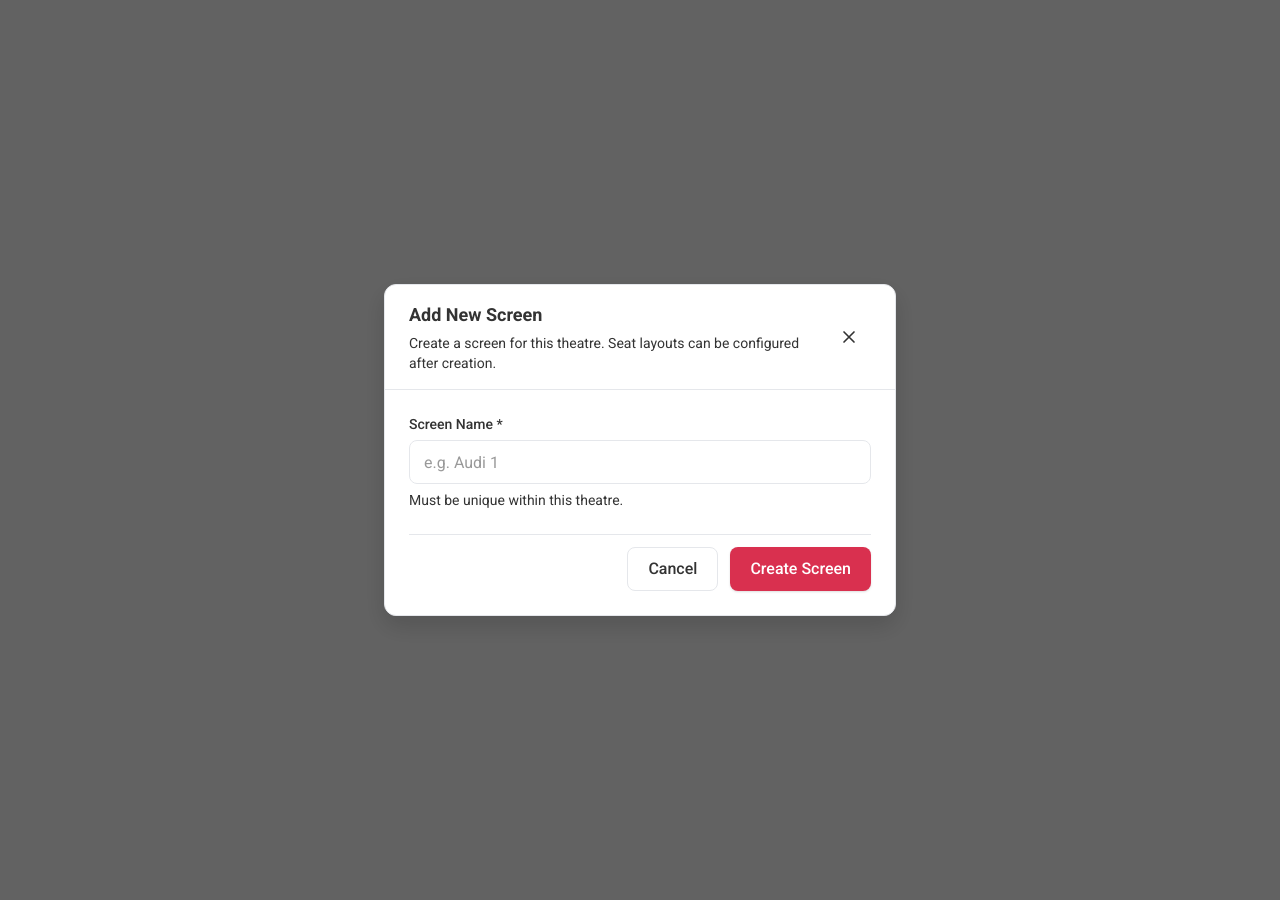
Test: CreateScreenModal Error Handling (Pilot Form) › displays general message in FormErrorBanner for 403 Forbidden without setting field errors
Type "Audi 2" into the field labelled "Screen Name *" at (640, 462), box x1=409 y1=440 x2=871 y2=484
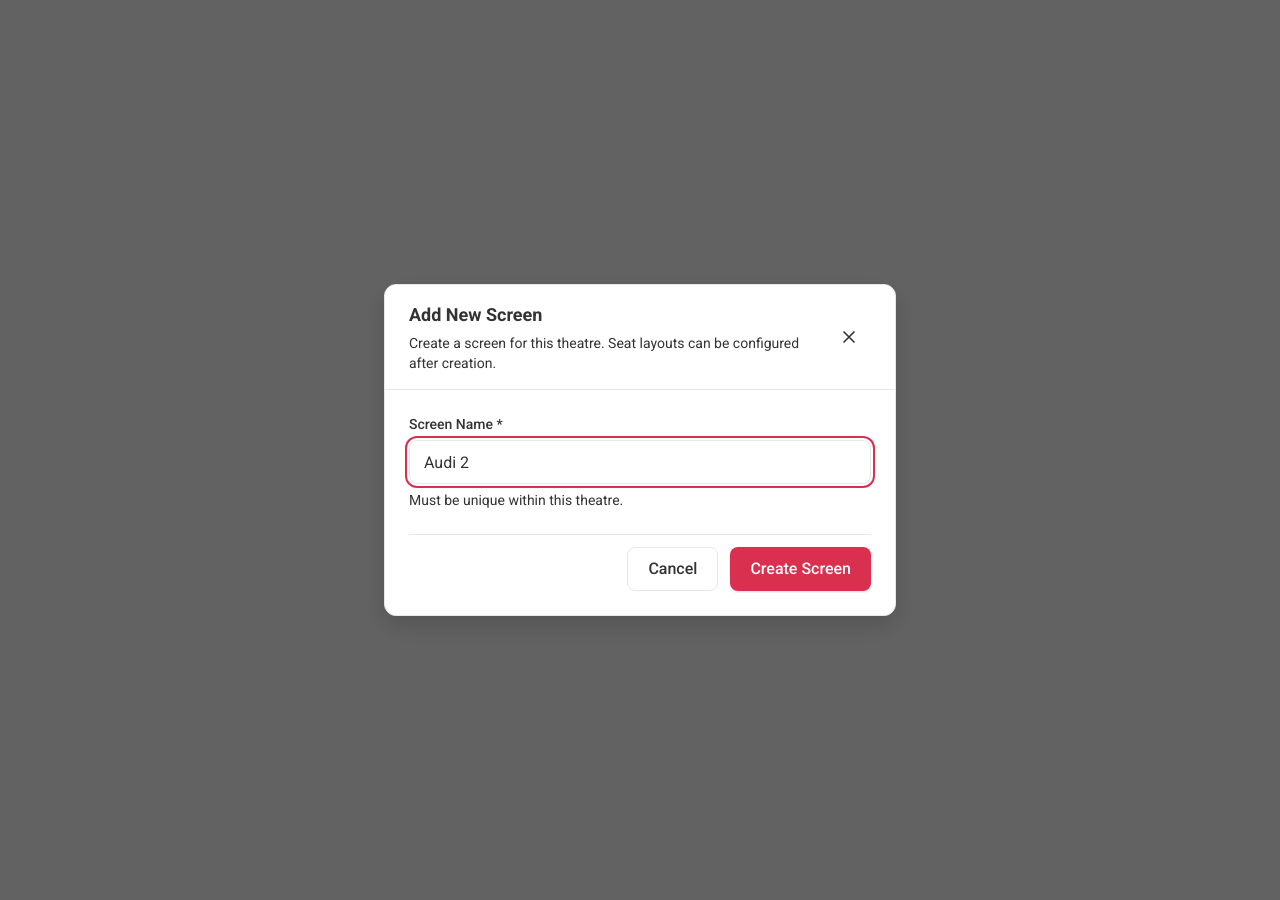
Click the button "Create Screen" at (801, 569), box x1=730 y1=547 x2=871 y2=591
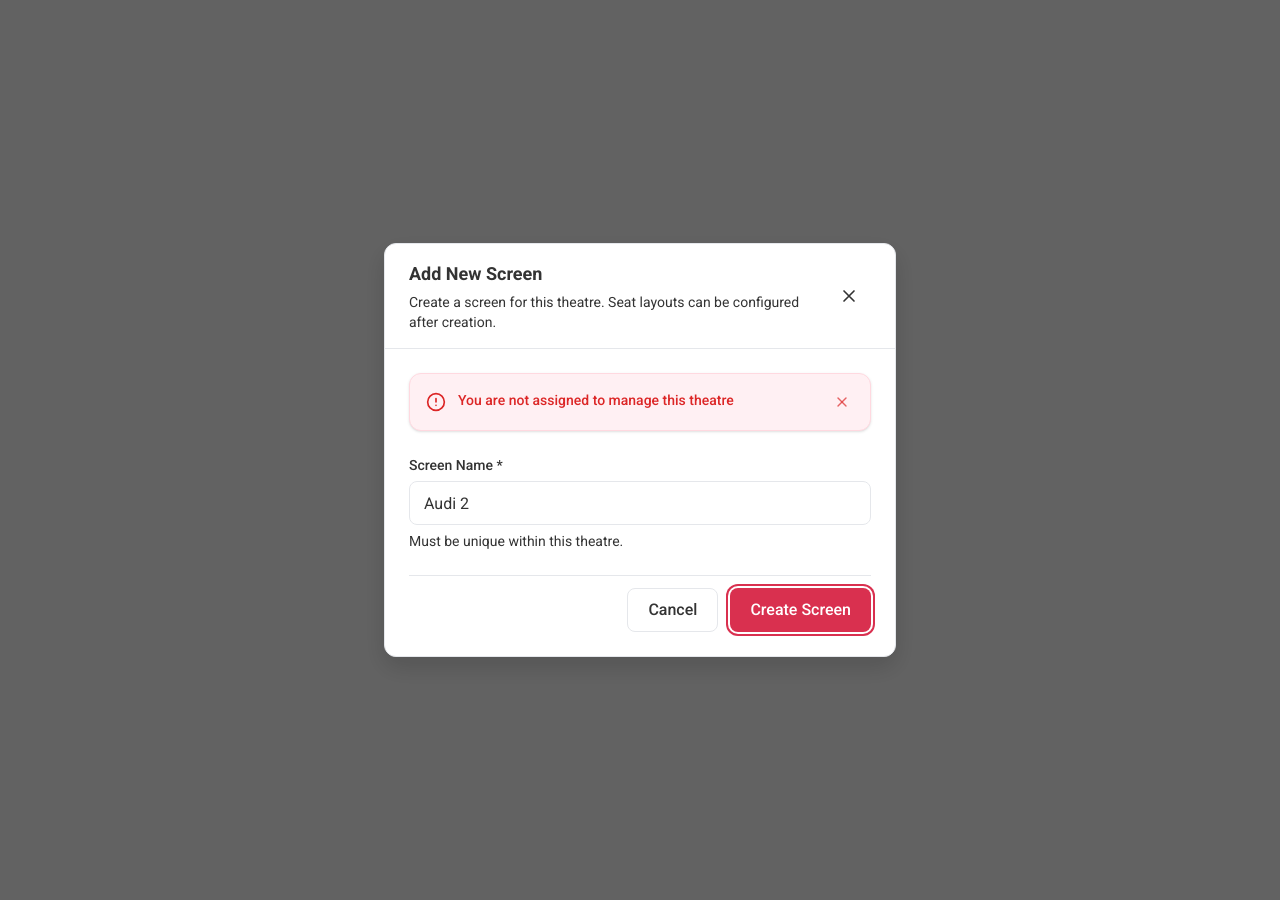
Check: the message "You are not assigned to manage this theatre" is shown, box x1=409 y1=373 x2=871 y2=431
Check: the message reads "You are not assigned to manage this theatre", box x1=458 y1=392 x2=734 y2=408
